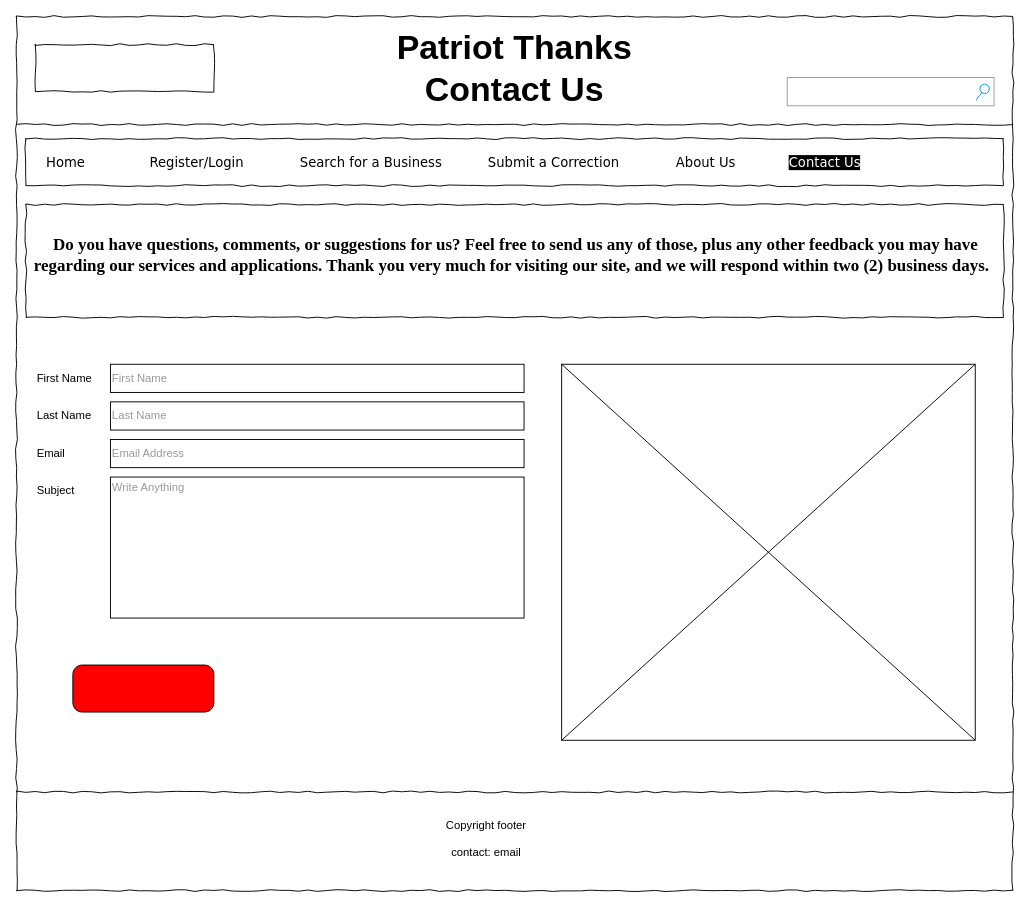
The diagram is 1029 pixels wide and 907 high, and some of its shapes have lost their labels. Here are the shapes that lost their labels. From the top down, the centre of each, then its label:
At point 124,68: "LOGO".
At point 890,91: "Search".
At point 143,688: "Submit".
